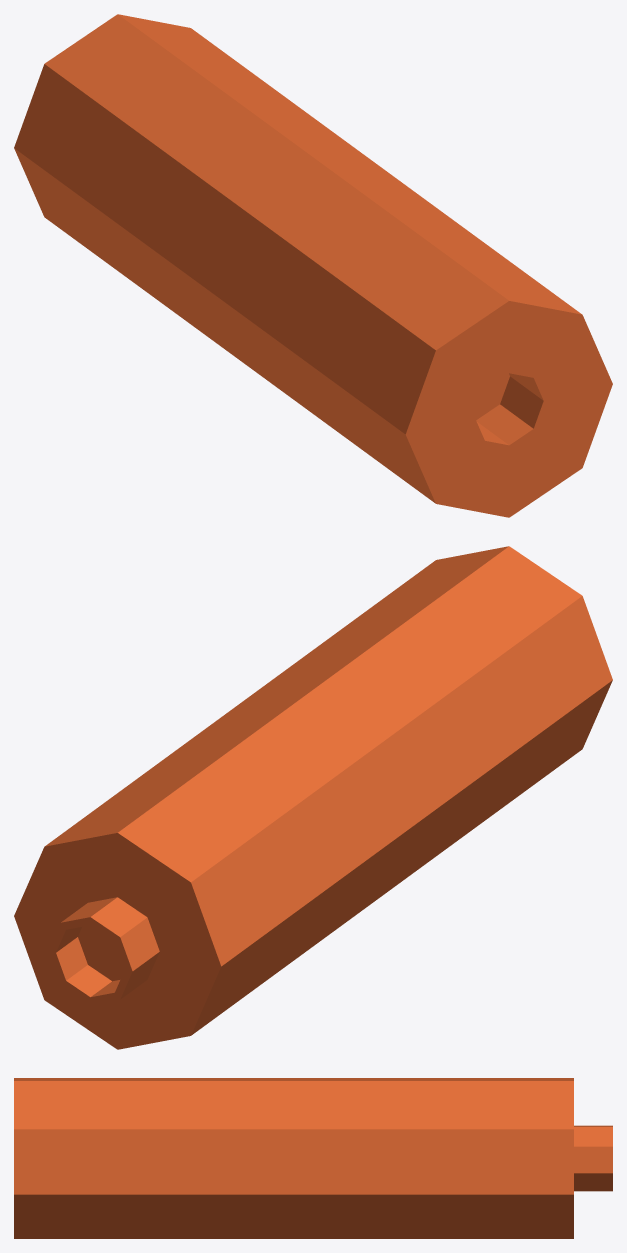
File: acc_Pistol_1_supressor.fbx
3 views of the same model, one above another, from view 1: azimuth 30°, elevation 25°; view 2: azimuth 150°, elevation 25°; view 3: azimuth 270°, elevation 25° (orthographic). The views are drawn at different scales.
Visible parts, largest first — view 1: acc_Pistol_1_supressor; view 2: acc_Pistol_1_supressor; view 3: acc_Pistol_1_supressor.
Part boxes in pixels (<box>): acc_Pistol_1_supressor: <box>14,14,612,517</box>; acc_Pistol_1_supressor: <box>14,546,612,1049</box>; acc_Pistol_1_supressor: <box>14,1078,612,1238</box>.
Size of the model in its own units: 24.87 by 24.87 by 87.
